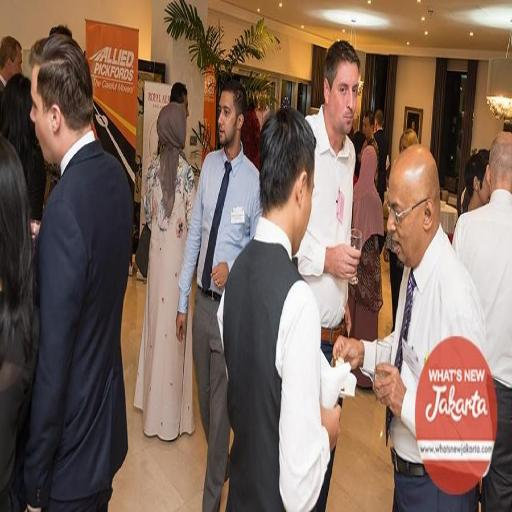person: (334, 146, 485, 511), (25, 35, 132, 511), (218, 109, 340, 511), (176, 80, 260, 511), (453, 133, 511, 511), (135, 102, 195, 439), (298, 42, 360, 361), (0, 136, 38, 511), (348, 146, 383, 339), (0, 74, 46, 220), (384, 231, 403, 329), (462, 150, 490, 212), (373, 109, 390, 203), (0, 37, 22, 101), (242, 103, 261, 169), (362, 111, 379, 159), (351, 132, 365, 184), (170, 82, 188, 117), (49, 25, 72, 38)
